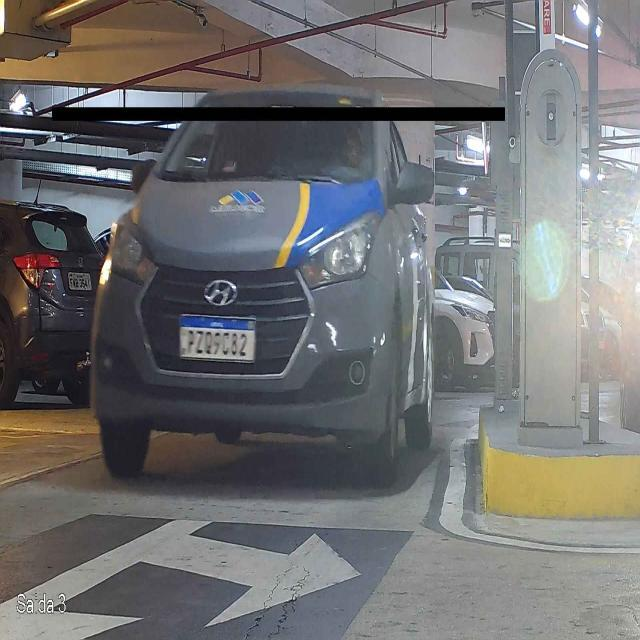mercosul_plate: (173, 313, 262, 365)
